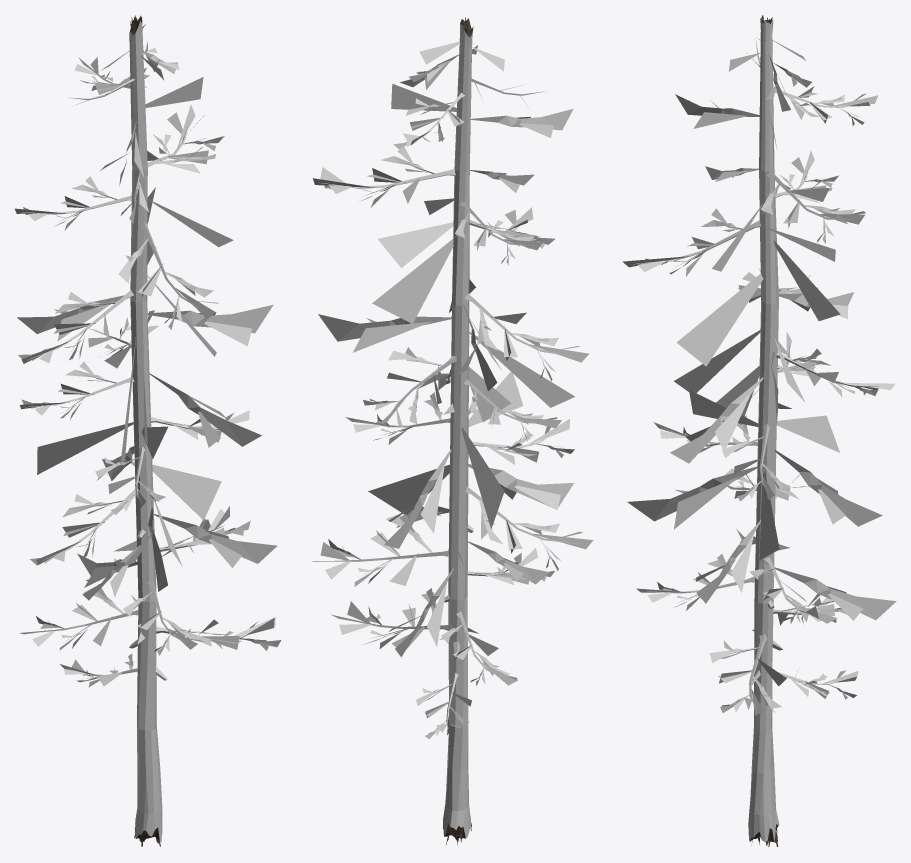
File: SM_PineDead03_lod1.obj
3 views of the same model, side by side, from view 1: azimuth 30°, elevation 25°; view 2: azimuth 150°, elevation 25°; view 3: azimuth 270°, elevation 25° (orthographic).
Visible parts, largest first — view 1: SM_PineDead03_lod1; view 2: SM_PineDead03_lod1; view 3: SM_PineDead03_lod1.
Part boxes in pixels (x1,y1,x2,y2): SM_PineDead03_lod1: (15, 15, 281, 846); SM_PineDead03_lod1: (312, 17, 593, 845); SM_PineDead03_lod1: (622, 15, 896, 846).
Size of the model in its own units: 134 by 407 by 122.
